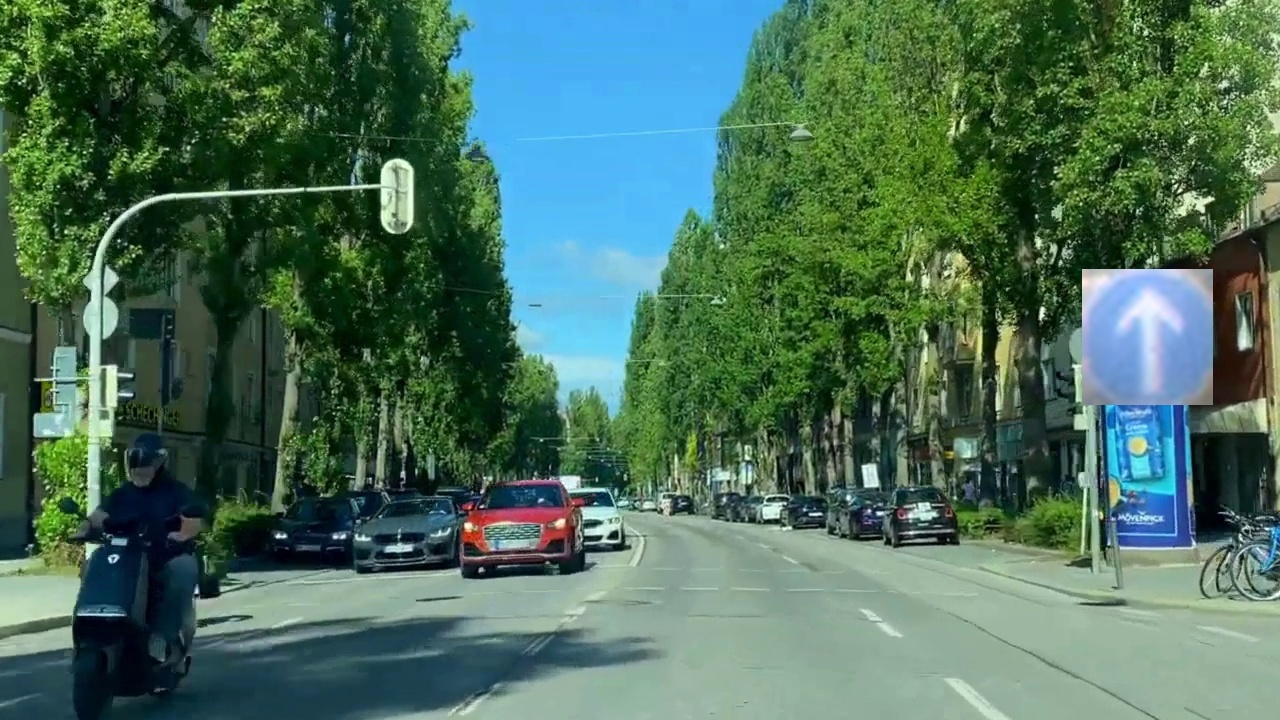Ahead only: (1082, 269, 1213, 405)
